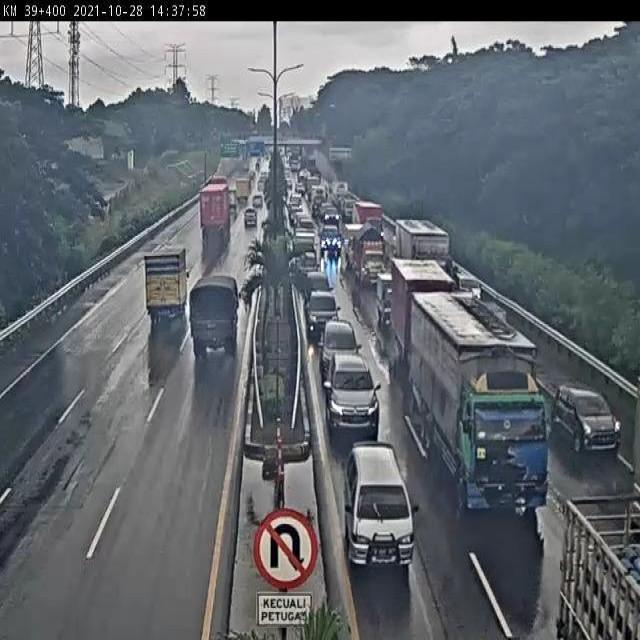car: (555, 385, 624, 455), (318, 221, 343, 252)
truck: (410, 293, 554, 520), (395, 219, 451, 291), (189, 274, 236, 354), (144, 249, 183, 324), (352, 224, 389, 281), (202, 183, 229, 240)
